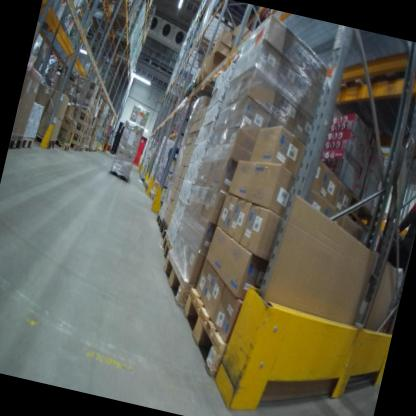pallet: (169, 282, 358, 410), (153, 247, 202, 312), (208, 0, 256, 36), (191, 29, 224, 63), (183, 79, 215, 106), (191, 68, 218, 97), (158, 230, 177, 264), (33, 128, 58, 152), (107, 166, 133, 186), (52, 133, 73, 153), (8, 133, 26, 156), (102, 0, 134, 12), (158, 216, 171, 237), (146, 187, 161, 205), (21, 137, 36, 153), (67, 139, 82, 153), (155, 210, 166, 226), (78, 145, 85, 154), (83, 145, 89, 153)
